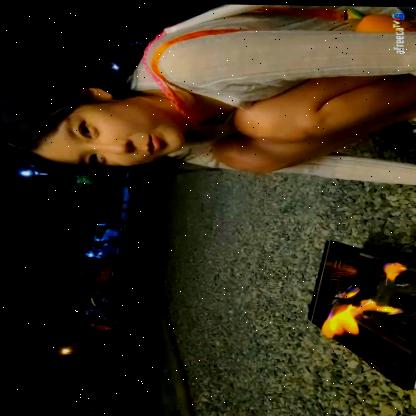streamer: (0, 0, 416, 184)
